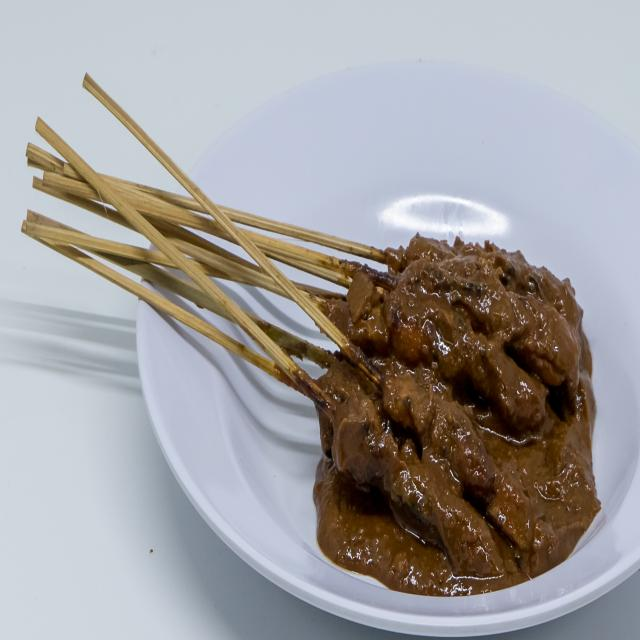Sate-Ayam: (274, 172, 606, 576)
